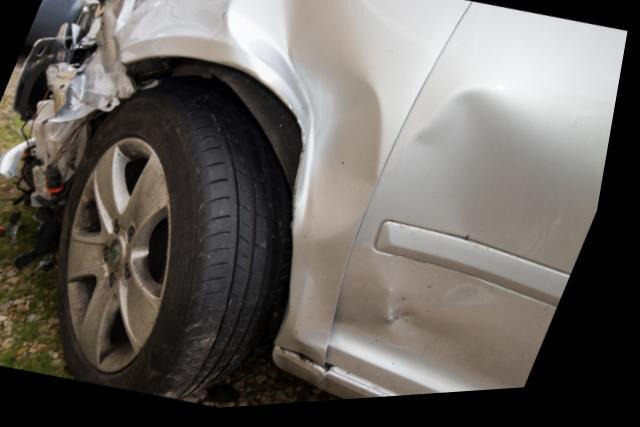dent: (344, 96, 560, 361), (227, 0, 389, 329), (97, 0, 169, 61)
no part: (5, 0, 162, 240)
